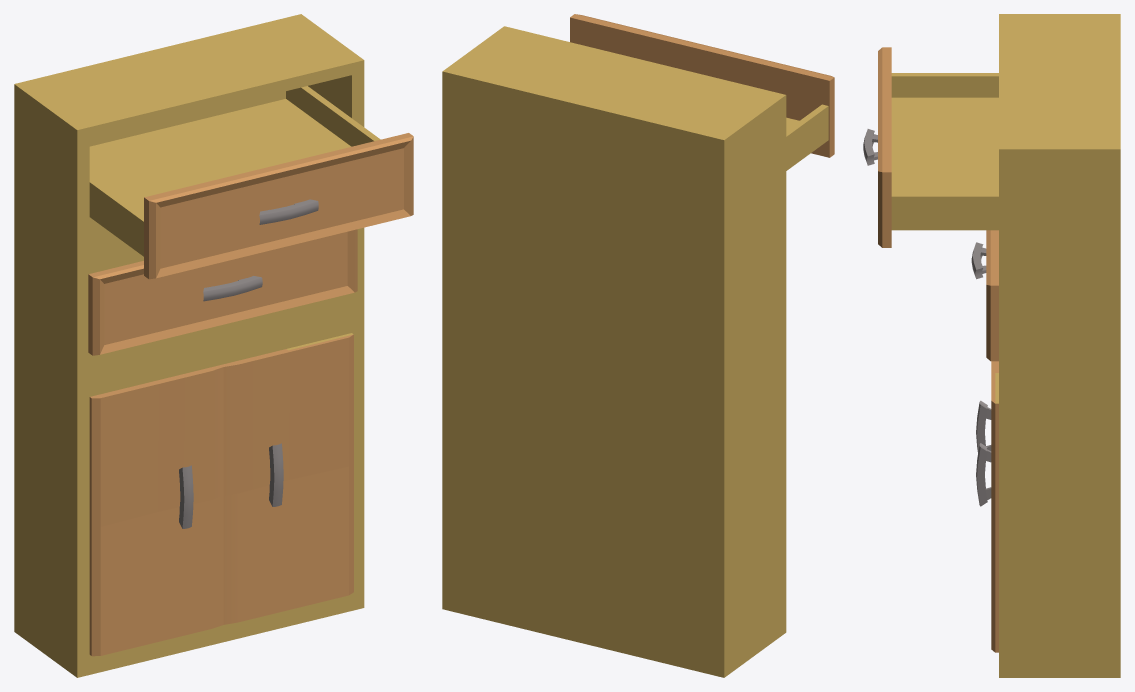
File: Kast1.fbx
3 renders of one model, left to right at view 1: azimuth 30°, elevation 25°; view 2: azimuth 150°, elevation 25°; view 3: azimuth 270°, elevation 25°, orthographic. The views are drawn at different scales.
Parts seen in each view (by area): view 1: pCube7, pasted__pCube8, pCube8, pasted__pasted__pCube6 (×2), pasted__pasted__pasted__pCube6, pasted__pCube6; view 2: pCube7, pasted__pCube8; view 3: pCube7, pasted__pCube8, pCube8, pasted__pasted__pCube6 (×2), pasted__pasted__pasted__pCube6, pasted__pCube6.
Boxes of the visible parts, x1,y1,x2,y2 form: pCube7: (14, 14, 380, 677); pasted__pCube8: (144, 133, 413, 279); pCube8: (88, 229, 357, 355); pasted__pasted__pCube6 (×2): (179, 199, 318, 528); pasted__pasted__pasted__pCube6: (269, 443, 283, 506); pasted__pCube6: (203, 276, 262, 301); pCube7: (442, 26, 828, 677); pasted__pCube8: (570, 14, 834, 157); pCube7: (891, 14, 1120, 677); pasted__pCube8: (878, 47, 891, 247); pCube8: (986, 230, 998, 361); pasted__pasted__pCube6 (×2): (863, 129, 991, 452); pasted__pasted__pasted__pCube6: (976, 443, 991, 506); pasted__pCube6: (971, 242, 986, 279).
Size of the model in its own units: 5.32 by 9.7 by 4.28.
